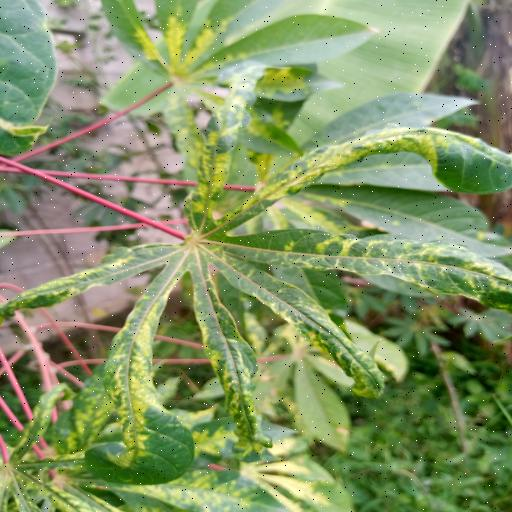Cassava_Mosaic: (11, 78, 512, 487), (107, 0, 385, 101)
